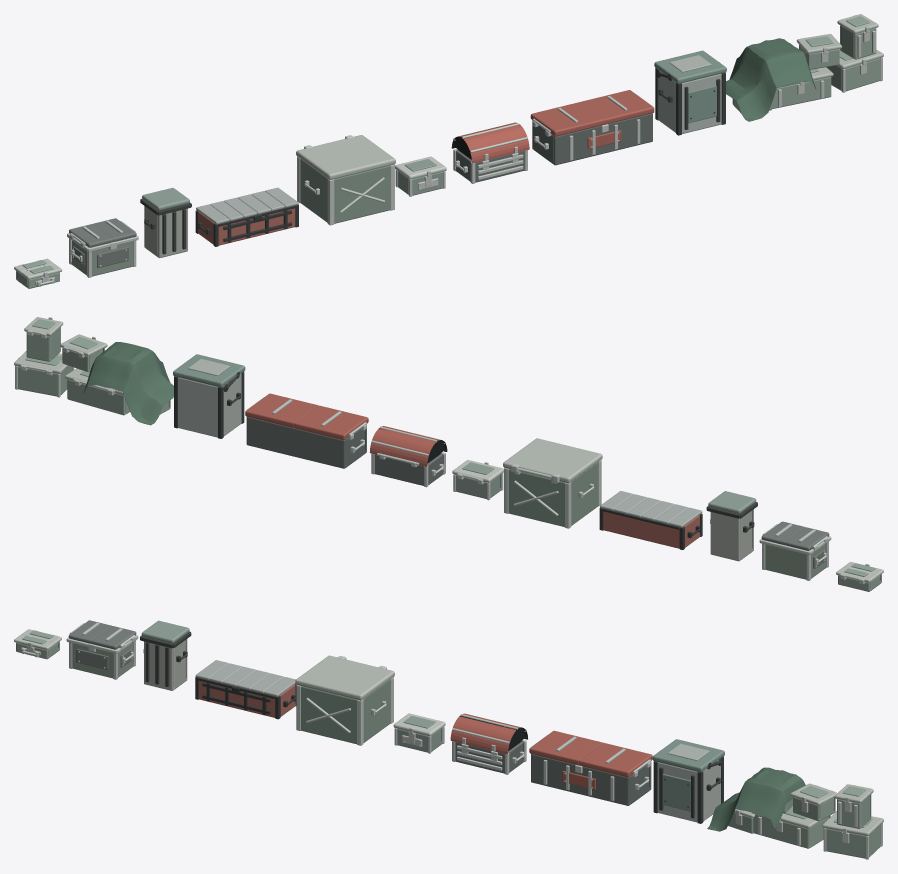
Rendered from submarine_postapo_crates_chests_pack.glb.
3 views of the same model, one above another, from view 1: azimuth 30°, elevation 25°; view 2: azimuth 150°, elevation 25°; view 3: azimuth 330°, elevation 25° (orthographic).
Parts seen in each view (by area): view 1: CRATE_PACK_Partial_Draped_Tarp, CRATE_BULK_Cantilever_Lid, CRATE_BULK_Front_Wall, CHEST_TRUNK_Front_Wall, CHEST_DOME_Arched_Lid, CHEST_TRUNK_Left_Gullwing_Lid, CHEST_TRUNK_Right_Gullwing_Lid, CRATE_BULK_Left_Wall, CHEST_TALL_Articulated_Lid, PACK_BOTTOM_LONG_Front_Wall, CRATE_TALL_Front_Wall, CHEST_TALL_Attached_Front_Panel (+7 smaller); view 2: CRATE_PACK_Partial_Draped_Tarp, CHEST_TRUNK_Back_Wall, CRATE_BULK_Cantilever_Lid, CRATE_BULK_Back_Wall, CHEST_TALL_Back_Wall, CHEST_DOME_Arched_Lid, CHEST_TRUNK_Left_Gullwing_Lid, CRATE_LONG_Back_Wall, CHEST_TRUNK_Right_Gullwing_Lid, CRATE_TALL_Back_Wall, CRATE_BULK_Left_Wall, PACK_BOTTOM_LONG_Back_Wall (+8 smaller); view 3: CRATE_PACK_Partial_Draped_Tarp, CRATE_BULK_Cantilever_Lid, CRATE_BULK_Front_Wall, CHEST_TRUNK_Front_Wall, CHEST_DOME_Arched_Lid, CHEST_TRUNK_Right_Gullwing_Lid, CHEST_TRUNK_Left_Gullwing_Lid, CRATE_BULK_Right_Wall, CHEST_TALL_Articulated_Lid, CHEST_TALL_Front_Wall, CRATE_TALL_Front_Wall, CHEST_TALL_Attached_Front_Panel (+13 smaller).
Part boxes in pixels (x1,y1,x2,y2): CRATE_PACK_Partial_Draped_Tarp: (726,38,816,121); CRATE_BULK_Cantilever_Lid: (296,135,395,179); CRATE_BULK_Front_Wall: (334,165,390,223); CHEST_TRUNK_Front_Wall: (553,113,652,165); CHEST_DOME_Arched_Lid: (451,122,529,163); CHEST_TRUNK_Left_Gullwing_Lid: (530,102,604,136); CHEST_TRUNK_Right_Gullwing_Lid: (581,90,654,124); CRATE_BULK_Left_Wall: (300,159,327,222); CHEST_TALL_Articulated_Lid: (654,50,726,83); PACK_BOTTOM_LONG_Front_Wall: (772,77,831,108); CRATE_TALL_Front_Wall: (158,208,187,258); CHEST_TALL_Attached_Front_Panel: (688,85,716,123); CRATE_PACK_Partial_Draped_Tarp: (83,342,173,425); CHEST_TRUNK_Back_Wall: (246,416,345,468); CRATE_BULK_Cantilever_Lid: (503,438,602,483); CRATE_BULK_Back_Wall: (508,469,564,526); CHEST_TALL_Back_Wall: (178,377,217,437); CHEST_DOME_Arched_Lid: (369,426,447,466); CHEST_TRUNK_Left_Gullwing_Lid: (294,405,368,439); CRATE_LONG_Back_Wall: (603,511,679,548); CHEST_TRUNK_Right_Gullwing_Lid: (245,393,318,427); CRATE_TALL_Back_Wall: (710,512,740,561); CRATE_BULK_Left_Wall: (571,462,598,525); PACK_BOTTOM_LONG_Back_Wall: (67,379,124,415); CRATE_PACK_Partial_Draped_Tarp: (707,767,805,831); CRATE_BULK_Cantilever_Lid: (295,655,394,700); CRATE_BULK_Front_Wall: (301,686,356,744); CHEST_TRUNK_Front_Wall: (531,754,629,805); CHEST_DOME_Arched_Lid: (450,713,527,754); CHEST_TRUNK_Right_Gullwing_Lid: (579,742,652,777); CHEST_TRUNK_Left_Gullwing_Lid: (529,730,602,765); CRATE_BULK_Right_Wall: (363,679,390,742); CHEST_TALL_Articulated_Lid: (652,739,724,772); CHEST_TALL_Front_Wall: (657,762,697,822); CRATE_TALL_Front_Wall: (144,641,173,690); CHEST_TALL_Attached_Front_Panel: (662,774,690,811).
Size of the model in its own units: 12.85 by 0.868 by 1.05.
